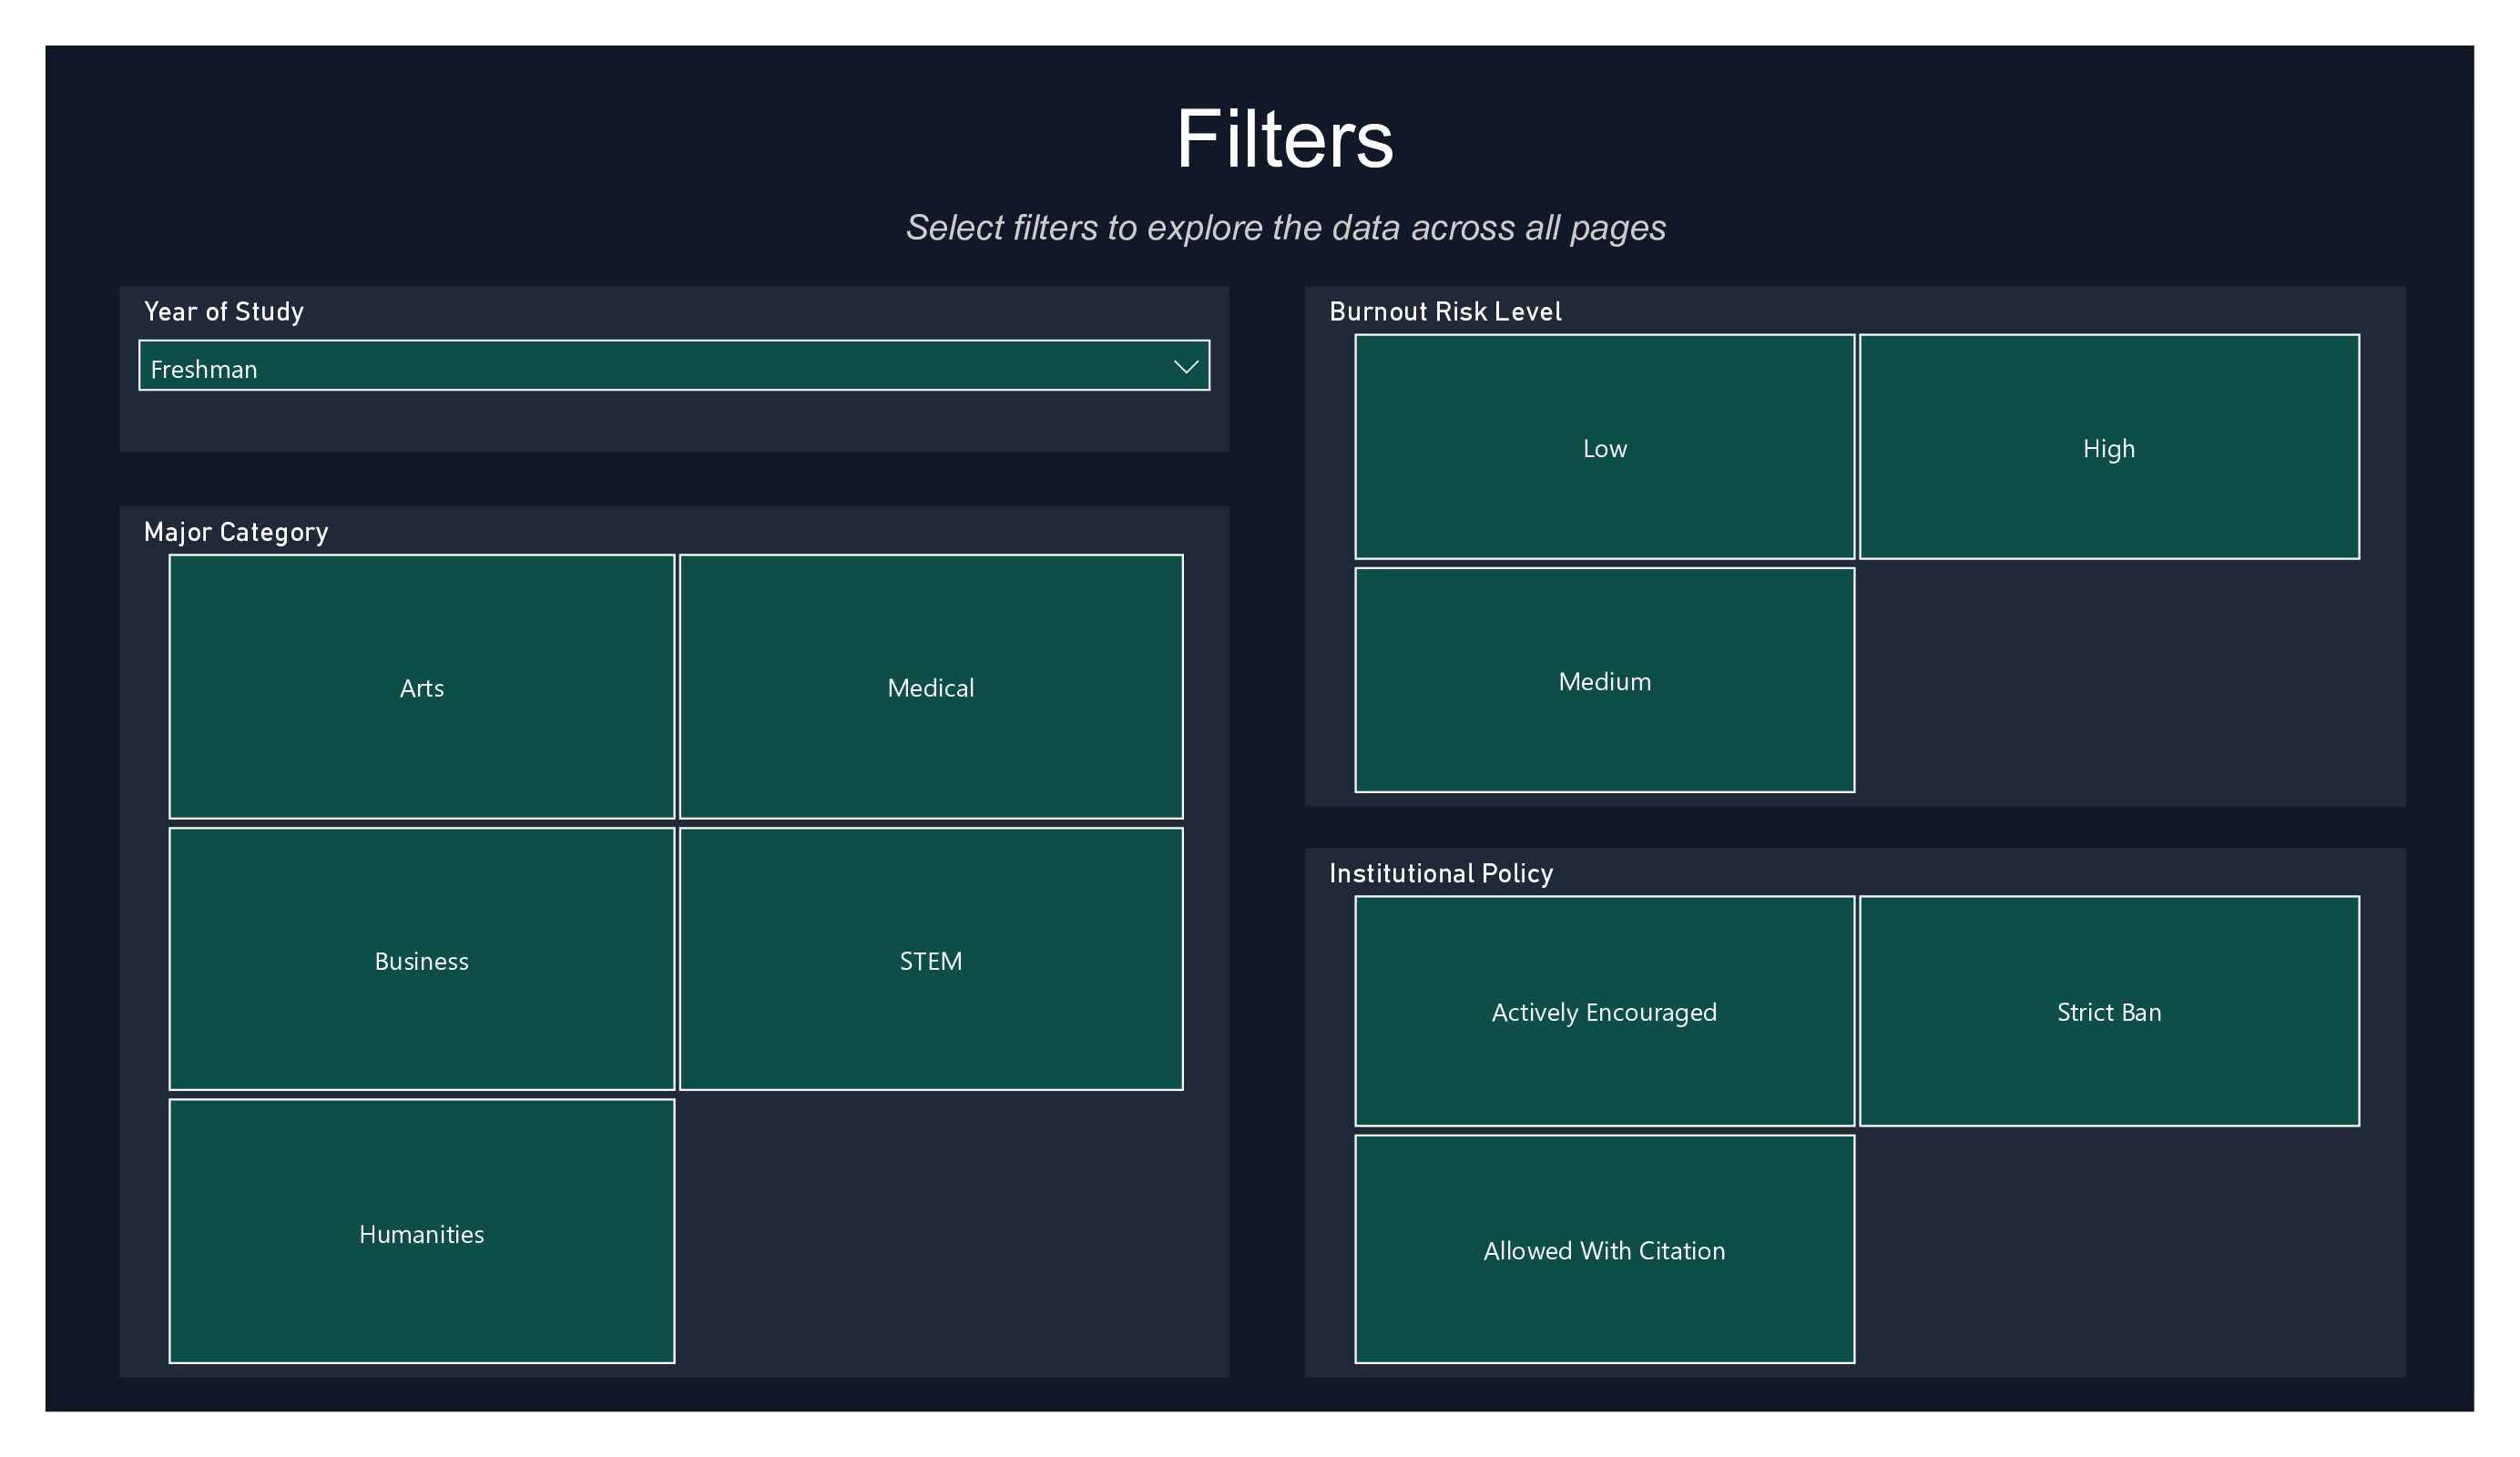

This screenshot's page, from the dashboard's own definition file:
{"tool":"powerbi","page":{"name":"Filters","canvas":[1280,720],"ordinal":4},"visuals":[{"type":"slicer","fields":{"Values":["ai_student_impact_dataset (1).Year_of_Study"]},"box":[38.9,126.7,585.6,87.8],"z":0},{"type":"slicer","fields":{"Values":["ai_student_impact_dataset (1).Institutional_Policy"]},"box":[664.4,423.3,580,278.9],"z":1000},{"type":"slicer","fields":{"Values":["ai_student_impact_dataset (1).Burnout_Risk_Level"]},"box":[664.4,126.7,580,274.4],"z":2000},{"type":"slicer","fields":{"Values":["ai_student_impact_dataset (1).Major_Category"]},"box":[38.9,243.3,585.6,458.9],"z":3000},{"type":"textbox","box":[171.1,20,964.4,68.9],"z":4000},{"type":"textbox","box":[421.1,80,464.4,34.4],"z":5000}]}

Visuals, with their boxes on the page's 1280x720 design canvas (x1, y1, x2, y2). These are canvas units, not pixel positions in the 2520x1457 screenshot, which may show the page scaled, cropped or inside an application window:
slicer - ai_student_impact_dataset (1).Year_of_Study: Rect(39, 127, 624, 214)
slicer - ai_student_impact_dataset (1).Institutional_Policy: Rect(664, 423, 1244, 702)
slicer - ai_student_impact_dataset (1).Burnout_Risk_Level: Rect(664, 127, 1244, 401)
slicer - ai_student_impact_dataset (1).Major_Category: Rect(39, 243, 624, 702)
textbox: Rect(171, 20, 1136, 89)
textbox: Rect(421, 80, 886, 114)
